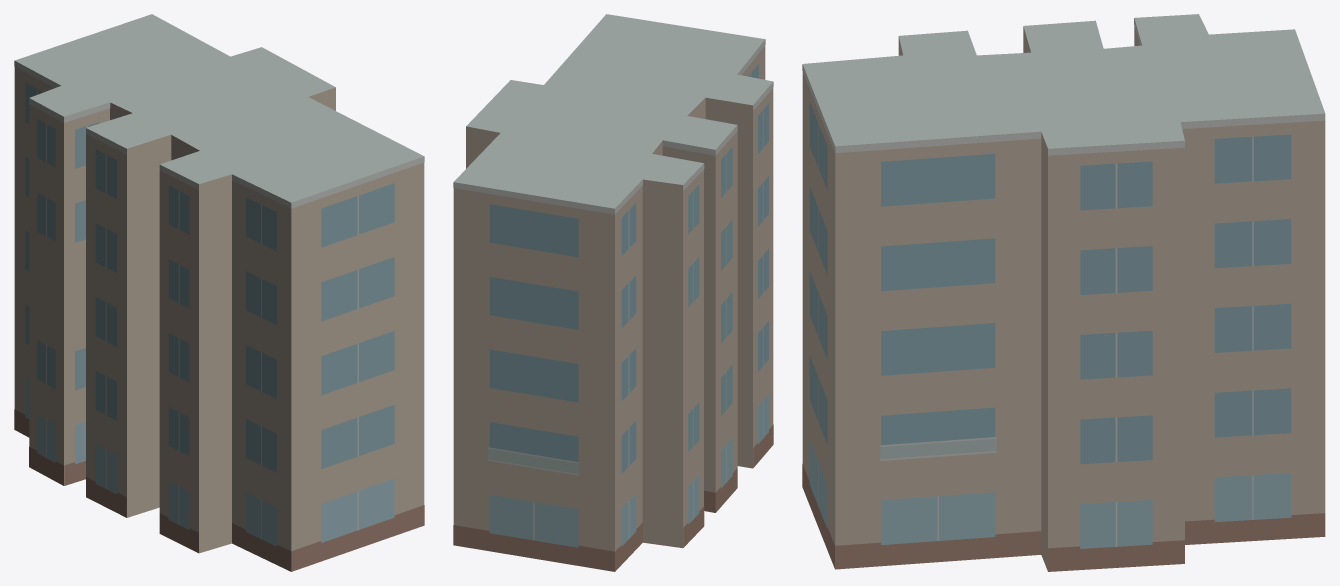
Rendered from survey-upis-32575369.glb.
The picture shows the model from 3 angles, left to right: view 1: azimuth 30°, elevation 25°; view 2: azimuth 150°, elevation 25°; view 3: azimuth 270°, elevation 25°; orthographic projection. The views are drawn at different scales.
Visible parts, largest first — view 1: survey-upis-32575369.tmp; view 2: survey-upis-32575369.tmp; view 3: survey-upis-32575369.tmp.
Part boxes in pixels (x1,y1,x2,y2): survey-upis-32575369.tmp: [14, 14, 424, 571]; survey-upis-32575369.tmp: [453, 14, 773, 571]; survey-upis-32575369.tmp: [802, 14, 1325, 571].
Size of the model in its own units: 10.23 by 14.95 by 16.76.
